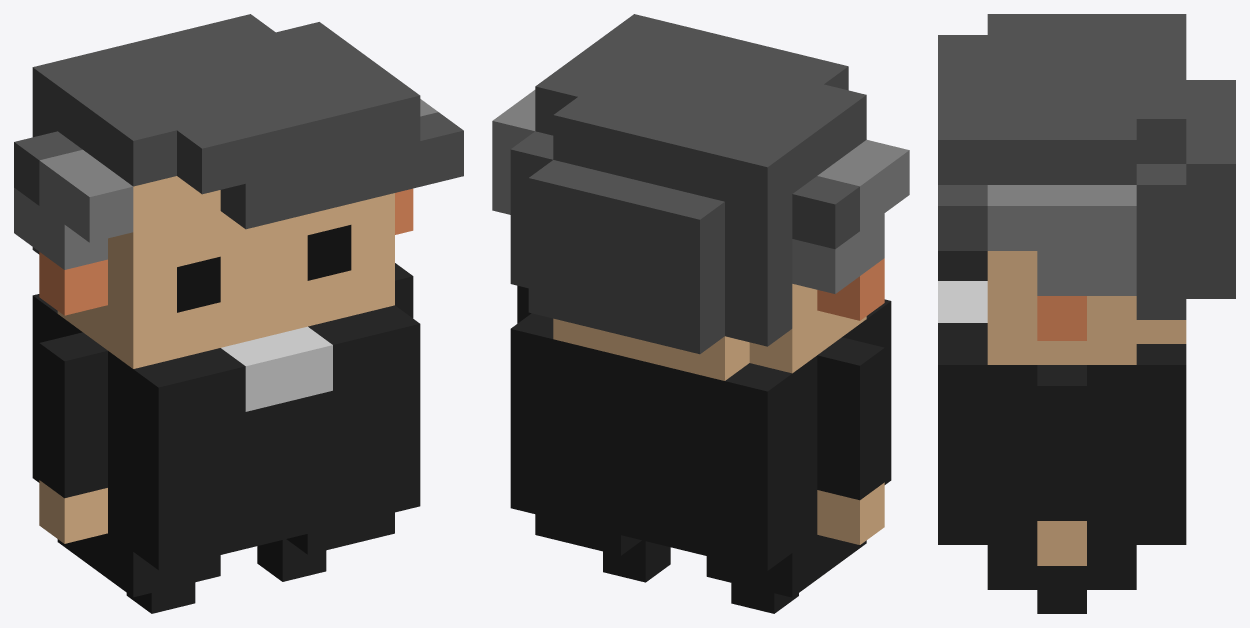
File: chr_priest.obj
3 views of the same model, side by side, from view 1: azimuth 30°, elevation 25°; view 2: azimuth 150°, elevation 25°; view 3: azimuth 270°, elevation 25° (orthographic).
Size of the model in its own units: 0.8 by 1.1 by 0.6.
1 material, 1 textured.
